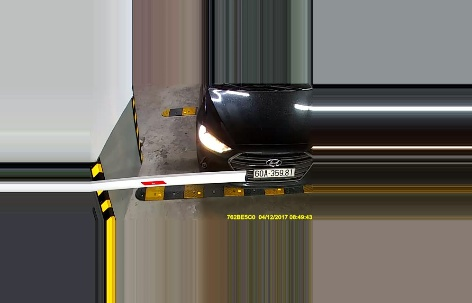plate: (253, 166, 296, 178)
